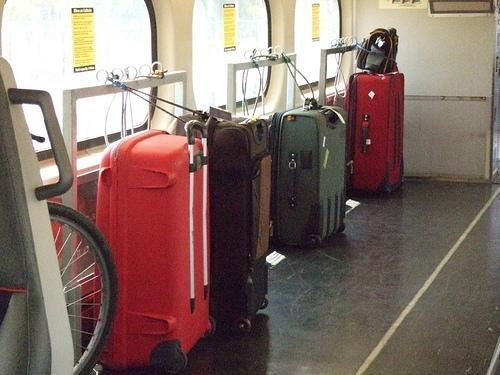bicycle: (47, 203, 120, 371)
